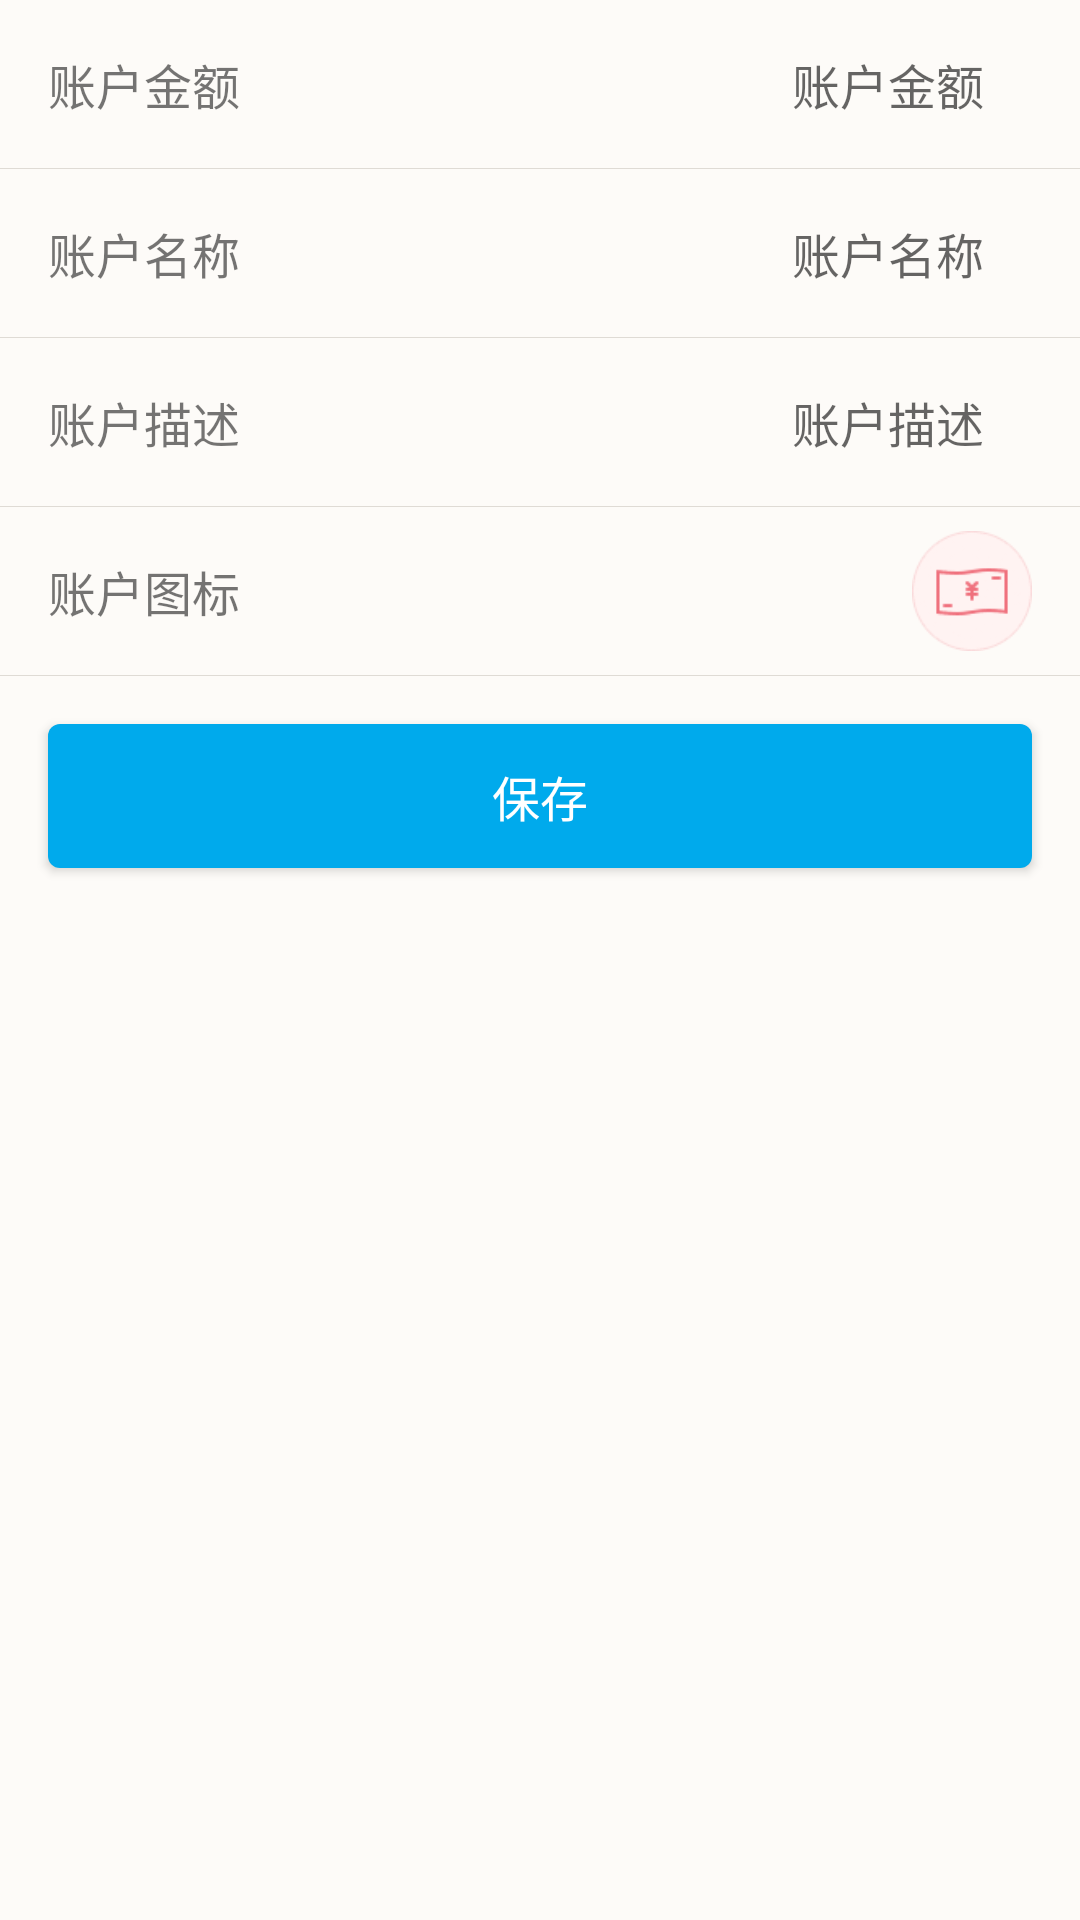

Locate icon controls on the screen. Image size 1080px x 1920px, boxes as (x1, y1, x2, y2).
zhang hu xianjin: (912, 531, 1032, 651)
